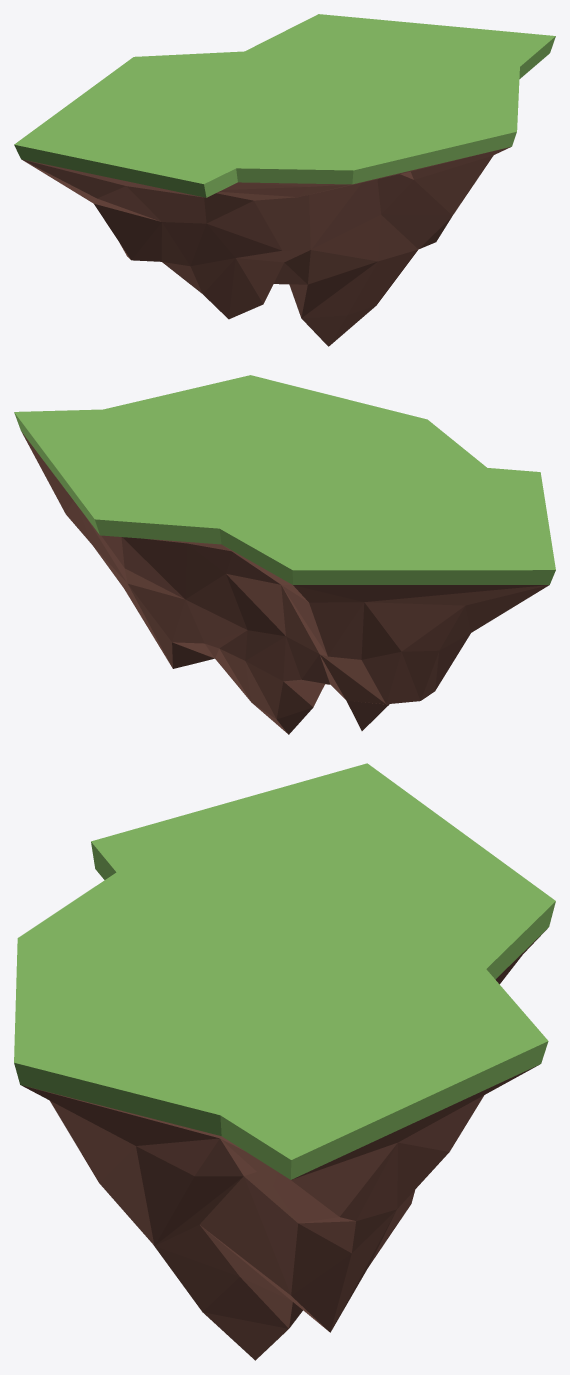
File: Island1.fbx
3 views of the same model, one above another, from view 1: azimuth 30°, elevation 25°; view 2: azimuth 150°, elevation 25°; view 3: azimuth 270°, elevation 25° (orthographic). The views are drawn at different scales.
Visible parts, largest first — view 1: Island1; view 2: Island1; view 3: Island1.
Part boxes in pixels (left/top/right/bottom): Island1: left=14, top=14, right=555, bottom=346; Island1: left=14, top=375, right=555, bottom=734; Island1: left=14, top=763, right=555, bottom=1360.
Size of the model in its own units: 5.62 by 2.53 by 3.24.
